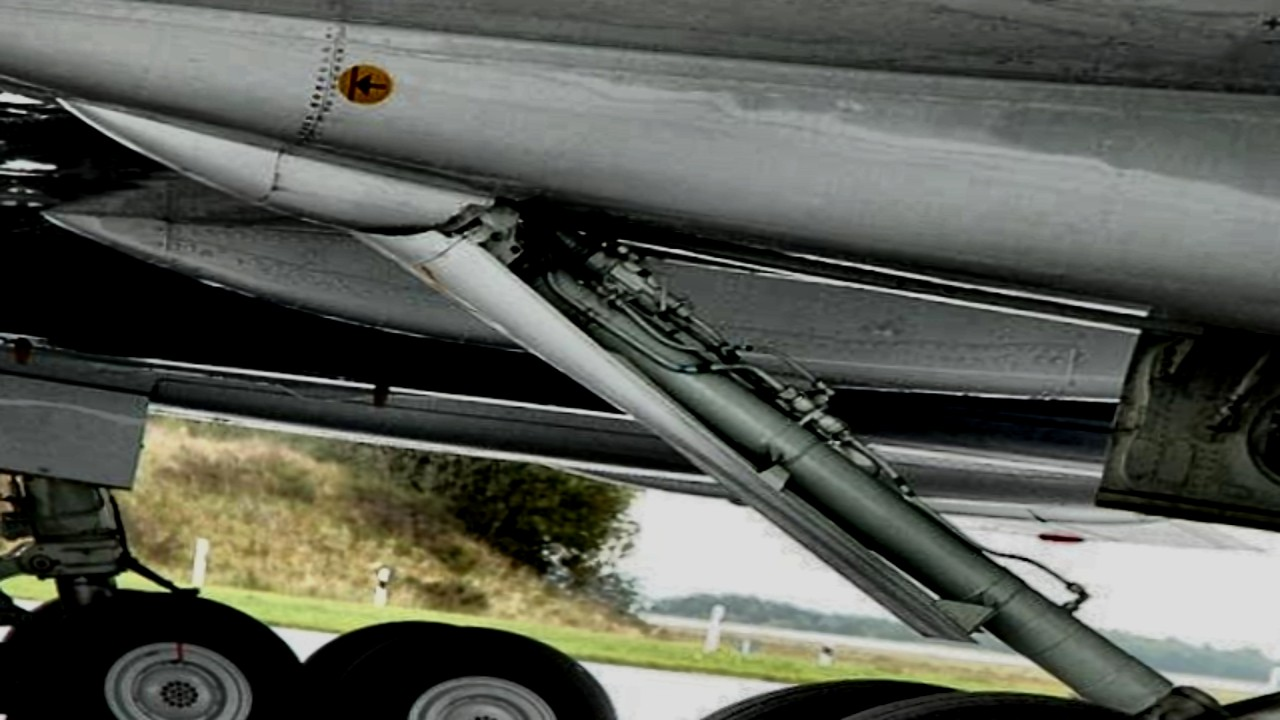wheel: (6, 582, 317, 720), (314, 604, 631, 720), (0, 550, 16, 720)
